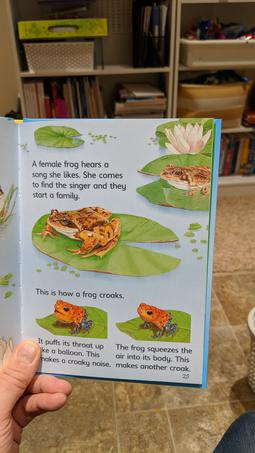text block: (26, 153, 133, 203), (111, 340, 195, 374), (34, 335, 113, 370), (31, 282, 131, 302)
